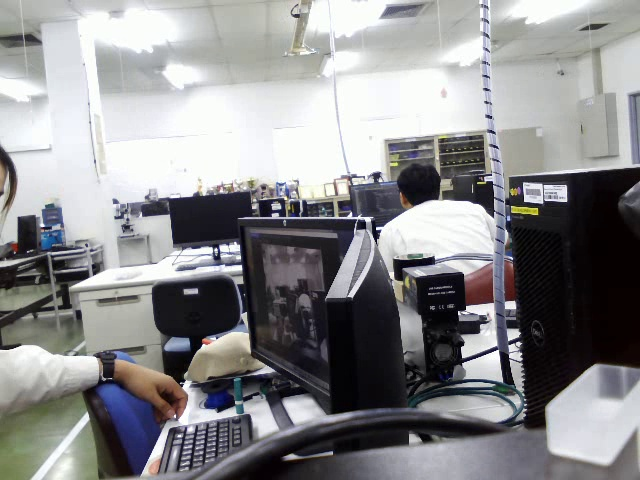aaa: (142, 253, 245, 344)
